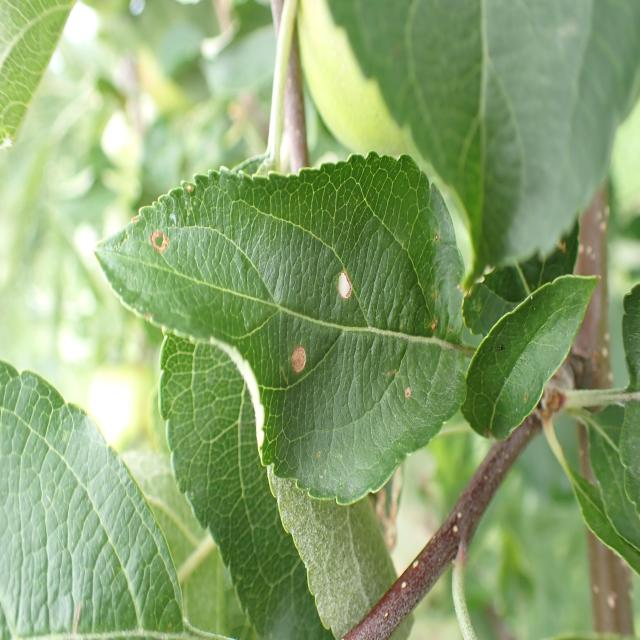frog-eye-leaf-spot: (94, 151, 477, 510), (459, 273, 602, 442)
